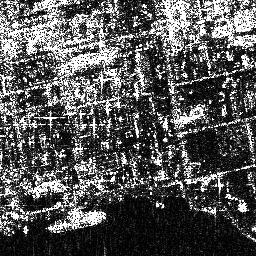ship: (45, 209, 107, 234)
